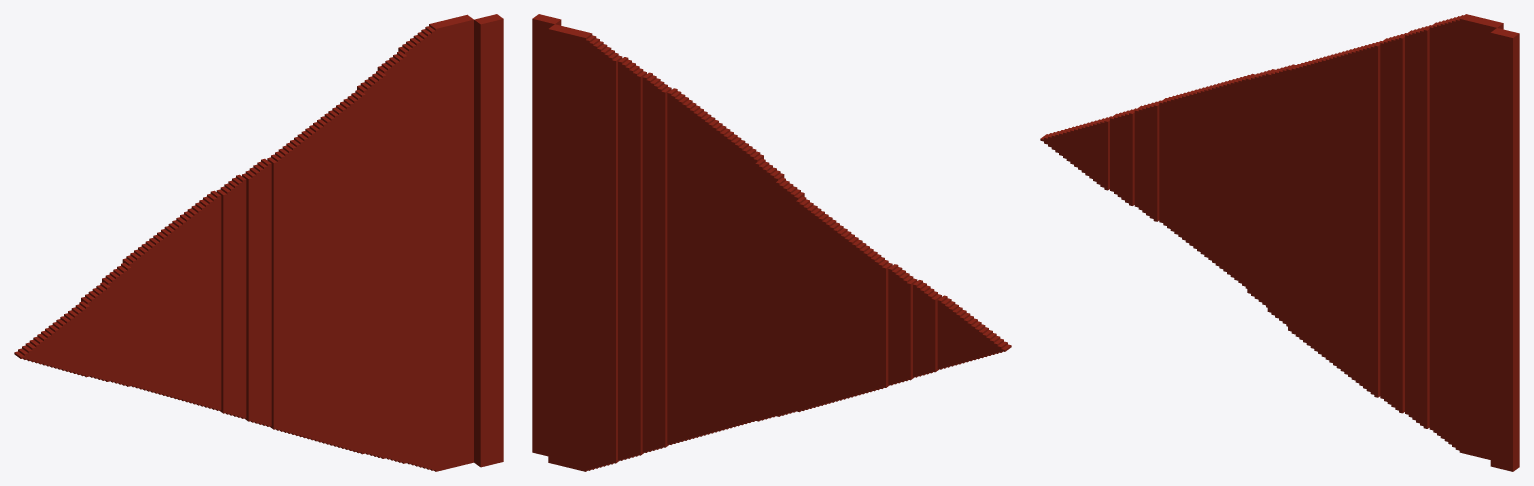
File: flag_full9-0.obj
The picture shows the model from 3 angles, left to right: view 1: azimuth 30°, elevation 25°; view 2: azimuth 150°, elevation 25°; view 3: azimuth 330°, elevation 25°; orthographic projection. The views are drawn at different scales.
Bounding box in the file's own units: 25.2 × 22.1 × 1.2.
1 material, 1 textured.
